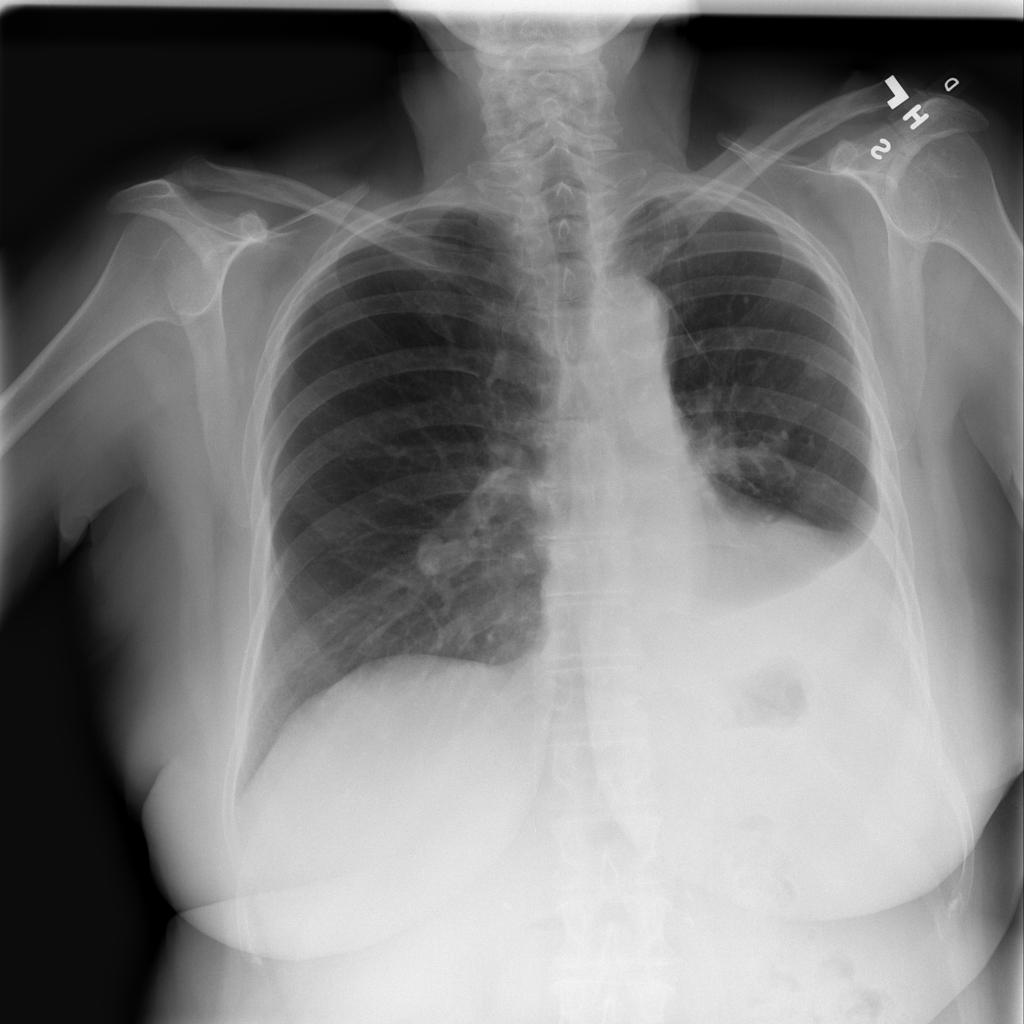nodule: (400, 517, 473, 590), (793, 345, 840, 397), (726, 281, 761, 319)
